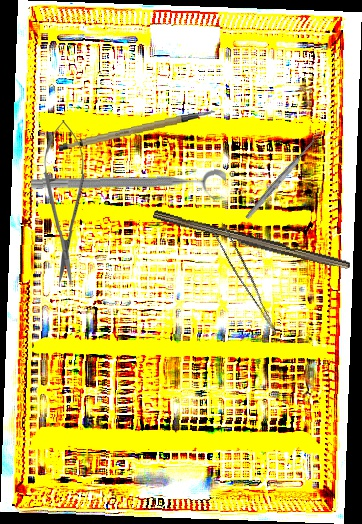Fixation Ring: (30, 169, 227, 205)
Micro Scissor: (41, 119, 88, 286)
Scalpel Handle: (151, 209, 352, 274), (56, 109, 218, 154)
Surgical Spoon: (244, 131, 323, 221)
Tissue Forceps: (207, 221, 288, 332)
